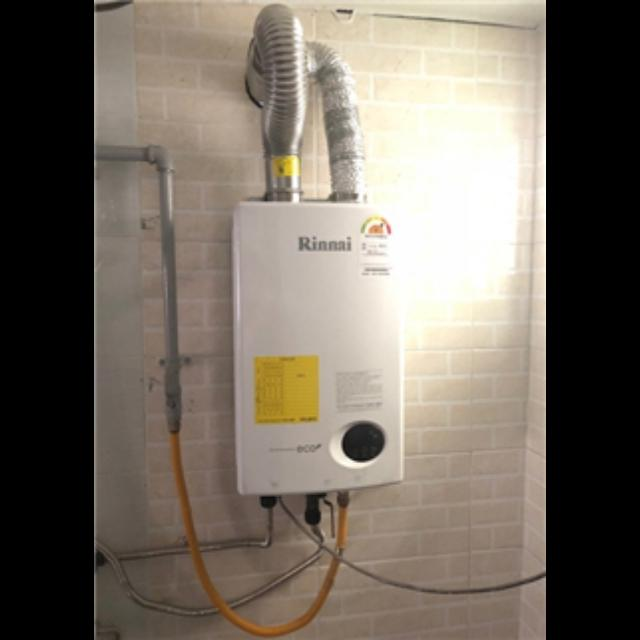Boiler: (212, 186, 428, 538)
